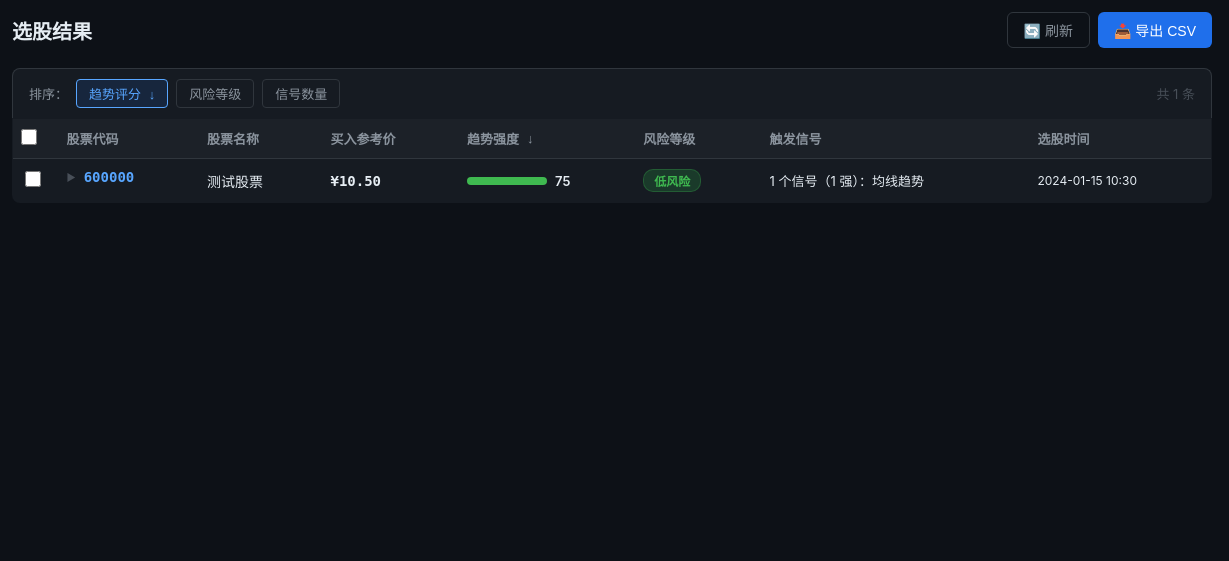
Test: ScreenerResultsView - 信号标签增强 › 描述文本显示与回退逻辑 › 信号有 description 时，标签显示"分类名：描述文本"格式
Click the row with class "result-row": coordinates (612, 180) [12, 158, 1212, 202]
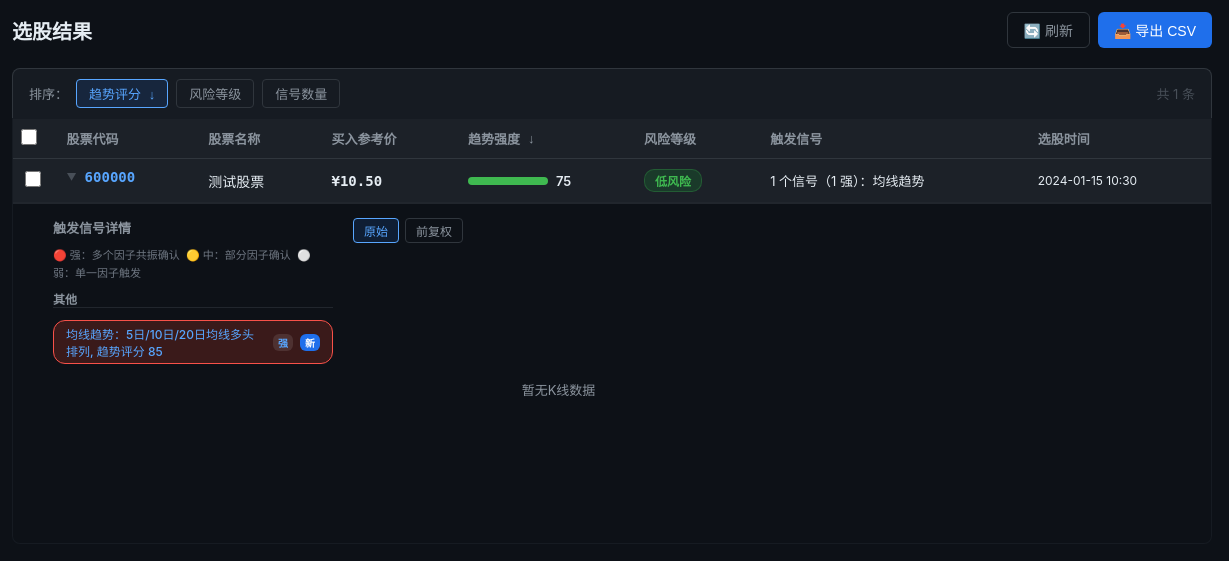
Now the element with class "signal-tag" is shown, box [53, 320, 333, 364]
Now the element with class "signal-tag" shows "均线趋势", box [66, 327, 254, 359]
Now the element with class "signal-tag" shows "5日/10日/20日均线多头排列, 趋势评分 85", box [66, 327, 254, 359]
